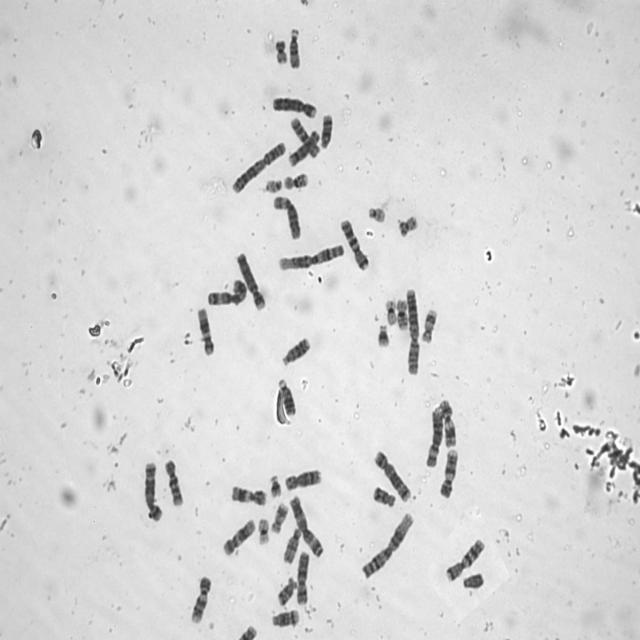A1: (358, 508, 416, 580), (275, 238, 345, 272)
A2: (228, 136, 287, 195), (402, 283, 421, 377)
A3: (286, 491, 325, 558), (204, 274, 248, 307)
B4: (233, 247, 266, 312), (268, 92, 318, 119)
B5: (371, 446, 412, 503), (140, 457, 163, 522)
C10: (288, 112, 320, 160), (161, 454, 184, 508)
C11: (227, 480, 268, 507), (437, 395, 457, 449)
C12: (219, 514, 256, 557), (193, 303, 215, 357)
C6: (270, 191, 302, 241), (422, 403, 444, 469)
C7: (442, 534, 486, 583), (337, 214, 370, 272)
C8: (285, 126, 321, 168), (281, 464, 323, 491)
C9: (186, 571, 213, 625), (436, 444, 459, 500)
D13: (278, 332, 311, 367), (275, 375, 297, 417)
D14: (268, 605, 300, 629), (317, 110, 334, 150)
D15: (280, 524, 302, 564), (286, 23, 302, 70)
E16: (280, 168, 309, 191), (393, 294, 409, 331)
E17: (418, 304, 438, 344), (268, 498, 289, 534)
E18: (274, 572, 298, 607), (369, 481, 397, 509)
F19: (254, 514, 271, 546), (382, 294, 398, 326)
F20: (394, 210, 420, 238), (272, 34, 288, 65)
G21: (374, 319, 391, 349), (266, 470, 283, 499)
G22: (364, 201, 388, 223), (262, 174, 282, 194)
X: (293, 546, 311, 606)
Y: (460, 568, 485, 591)
